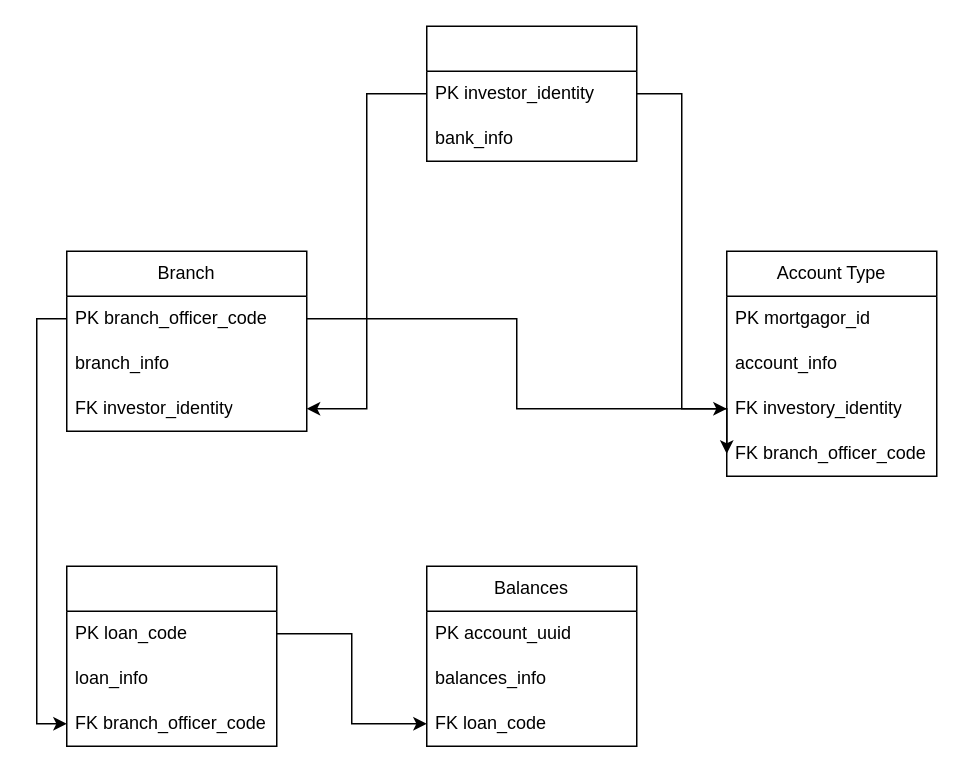
Image size: 963x773. Some labels were removed from this diagram. The shapes that lost their labels are listed below. From the top down, each one's box as (x1, y1, x2, y2) in pixels, then its label:
(425, 25, 637, 161): Bank/Investor
(65, 565, 277, 746): Loan Type
